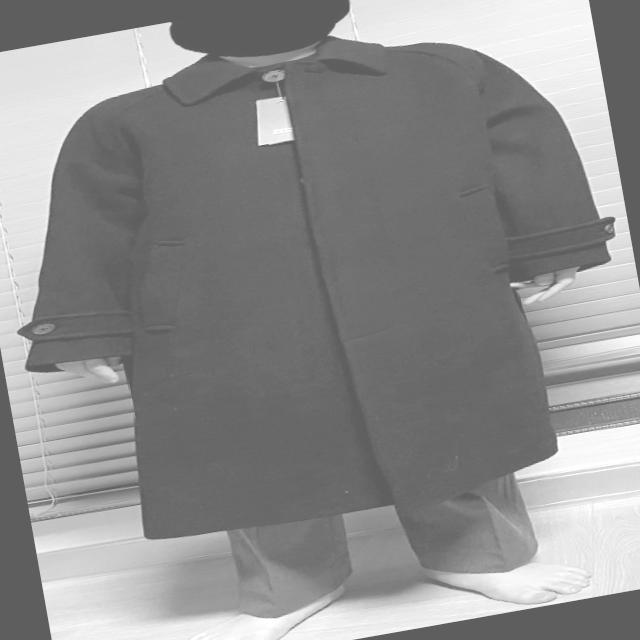coat: (0, 0, 640, 563)
slacks: (221, 474, 536, 624)
